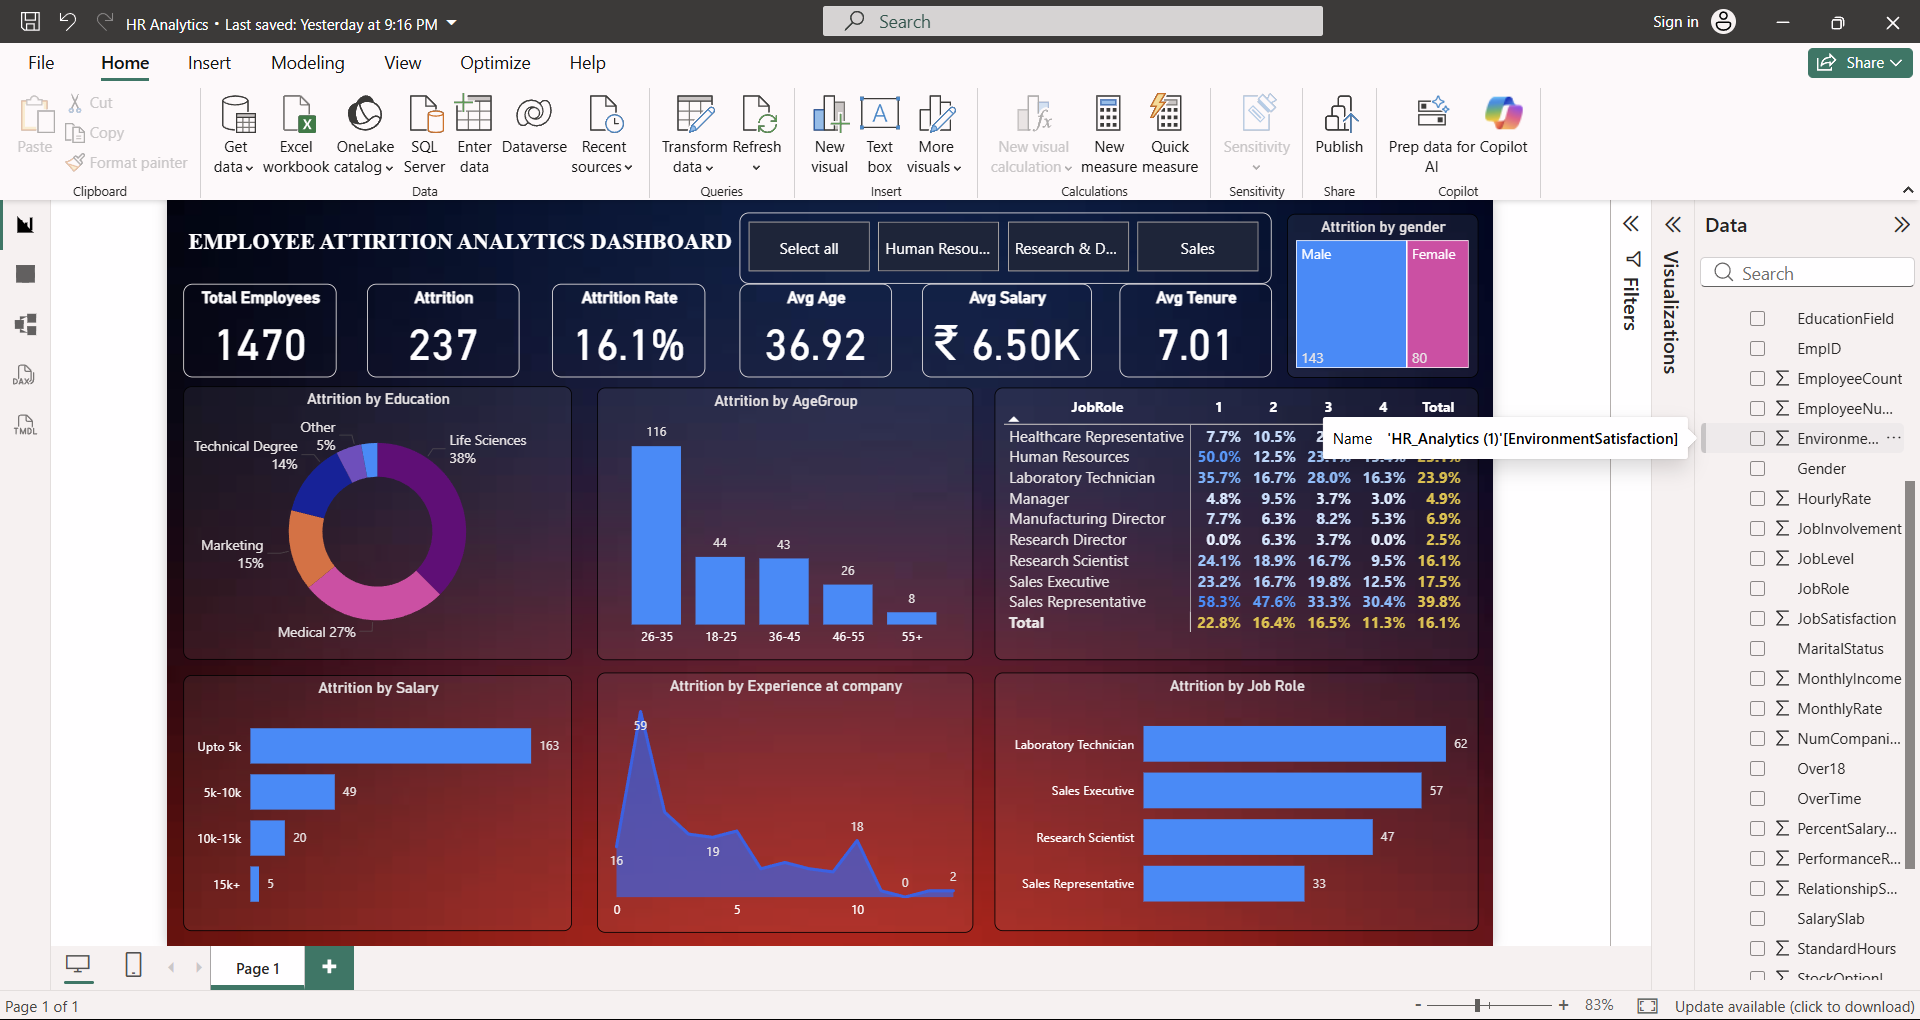

Layout of this report page (visuals, bound fields, positions):
{"tool":"powerbi","page":{"name":"Page 1","canvas":[1280,720],"ordinal":0},"visuals":[{"type":"card","title":"Total Employees","fields":{"Values":["CountNonNull(HR_Analytics (1).EmpID)"]},"box":[15.7,80.8,148.4,90.5],"z":0},{"type":"card","title":"Avg Salary","fields":{"Values":["Avg(HR_Analytics (1).MonthlyIncome)"]},"box":[728.7,80.8,164.1,90.5],"z":1000},{"type":"card","title":"Avg Age","fields":{"Values":["Avg(HR_Analytics (1).Age)"]},"box":[552.5,80.8,147.2,90.5],"z":2000},{"type":"card","title":"Attrition Rate","fields":{"Values":["HR_Analytics (1).AttritionRate"]},"box":[371.6,80.8,148.4,90.5],"z":3000},{"type":"card","title":"Attrition","fields":{"Values":["Sum(HR_Analytics (1).AttritionCount)"]},"box":[193,80.8,147.2,90.5],"z":4000},{"type":"card","title":"Avg Tenure","fields":{"Values":["Avg(HR_Analytics (1).YearsAtCompany)"]},"box":[919.3,80.8,147.2,90.5],"z":5000},{"type":"donutChart","title":"Attrition by Education","fields":{"Category":["HR_Analytics (1).EducationField"],"Y":["Sum(HR_Analytics (1).AttritionCount)"]},"box":[15.7,179.8,375.2,264.2],"z":6000},{"type":"columnChart","title":"Attrition by AgeGroup","fields":{"Category":["HR_Analytics (1).AgeGroup"],"Y":["Sum(HR_Analytics (1).AttritionCount)"]},"box":[415,181,363.1,263],"z":7000},{"type":"clusteredBarChart","title":"Attrition by Salary","fields":{"Category":["HR_Analytics (1).SalarySlab"],"Y":["Sum(HR_Analytics (1).AttritionCount)"]},"box":[15.7,458.4,375.2,247.3],"z":8000},{"type":"clusteredBarChart","title":"Attrition by Job Role","fields":{"Category":["HR_Analytics (1).JobRole"],"Y":["Sum(HR_Analytics (1).AttritionCount)"]},"box":[798.7,456,466.9,249.7],"z":9000},{"type":"areaChart","title":"Attrition by Experience at company","fields":{"Category":["HR_Analytics (1).YearsAtCompany"],"Y":["Sum(HR_Analytics (1).AttritionCount)"]},"box":[415,456,363.1,250.9],"z":10000},{"type":"treemap","title":"Attrition by gender","fields":{"Group":["HR_Analytics (1).Gender"],"Values":["Sum(HR_Analytics (1).AttritionCount)"]},"box":[1081,13.3,184.6,158],"z":11000},{"type":"advancedSlicerVisual","fields":{"Values":["HR_Analytics (1).Department"]},"box":[552.5,12.1,513.9,68.8],"z":12000},{"type":"pivotTable","fields":{"Values":["HR_Analytics (1).AttritionRate"],"Rows":["HR_Analytics (1).JobRole"],"Columns":["HR_Analytics (1).JobSatisfaction"]},"box":[798.7,181,466.9,263],"z":14000},{"type":"textbox","box":[15.7,22.9,536.9,45.8],"z":14001}]}

Visuals, with their boxes on the page's 1280x720 design canvas (x1, y1, x2, y2). These are canvas units, not pixel positions in the 1920x1020 screenshot, which may show the page scaled, cropped or inside an application window:
"Total Employees" card: bbox=[16, 81, 164, 171]
"Avg Salary" card: bbox=[729, 81, 893, 171]
"Avg Age" card: bbox=[552, 81, 700, 171]
"Attrition Rate" card: bbox=[372, 81, 520, 171]
"Attrition" card: bbox=[193, 81, 340, 171]
"Avg Tenure" card: bbox=[919, 81, 1066, 171]
"Attrition by Education" donutChart: bbox=[16, 180, 391, 444]
"Attrition by AgeGroup" columnChart: bbox=[415, 181, 778, 444]
"Attrition by Salary" clusteredBarChart: bbox=[16, 458, 391, 706]
"Attrition by Job Role" clusteredBarChart: bbox=[799, 456, 1266, 706]
"Attrition by Experience at company" areaChart: bbox=[415, 456, 778, 707]
"Attrition by gender" treemap: bbox=[1081, 13, 1266, 171]
advancedSlicerVisual - HR_Analytics (1).Department: bbox=[552, 12, 1066, 81]
pivotTable - HR_Analytics (1).AttritionRate x HR_Analytics (1).JobRole: bbox=[799, 181, 1266, 444]
textbox: bbox=[16, 23, 553, 69]
